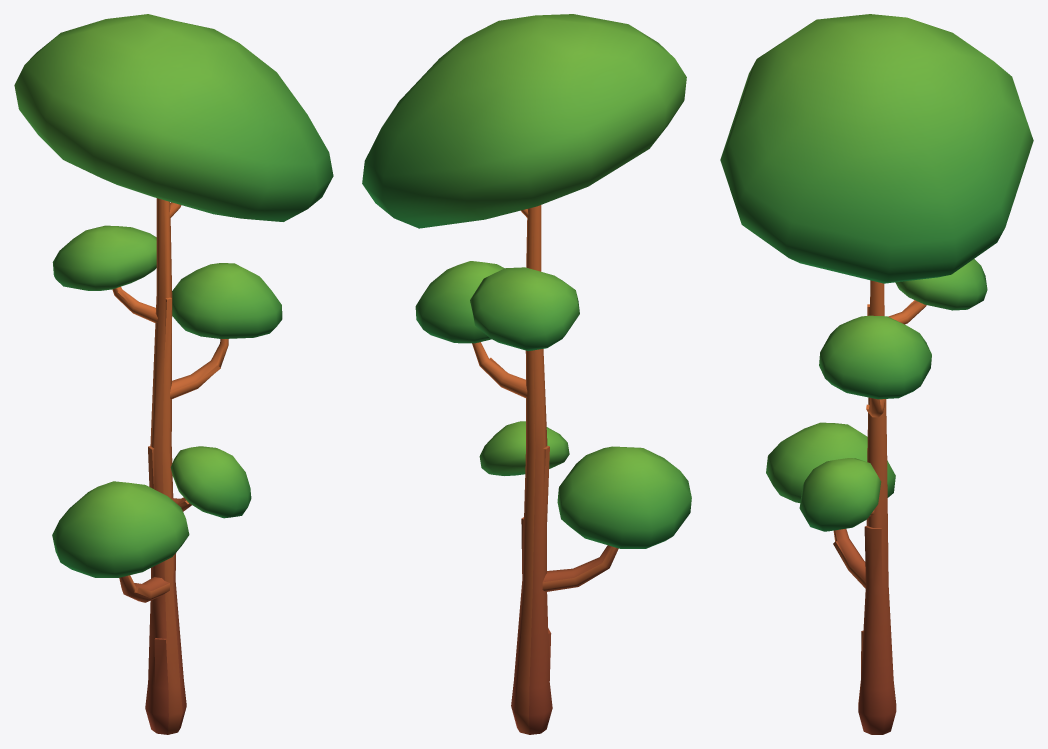
File: Tree_7_C_Color1.gltf
The picture shows the model from 3 angles, left to right: view 1: azimuth 30°, elevation 25°; view 2: azimuth 150°, elevation 25°; view 3: azimuth 270°, elevation 25°; orthographic projection. The views are drawn at different scales.
Visible parts, largest first — view 1: Tree_7_C_Color1; view 2: Tree_7_C_Color1; view 3: Tree_7_C_Color1.
Part boxes in pixels (x1,y1,x2,y2): Tree_7_C_Color1: (14, 14, 333, 734); Tree_7_C_Color1: (362, 14, 691, 734); Tree_7_C_Color1: (720, 14, 1033, 734).
Bounding box in the file's own units: 3.9 × 9.76 × 4.
1 material, 1 textured.
